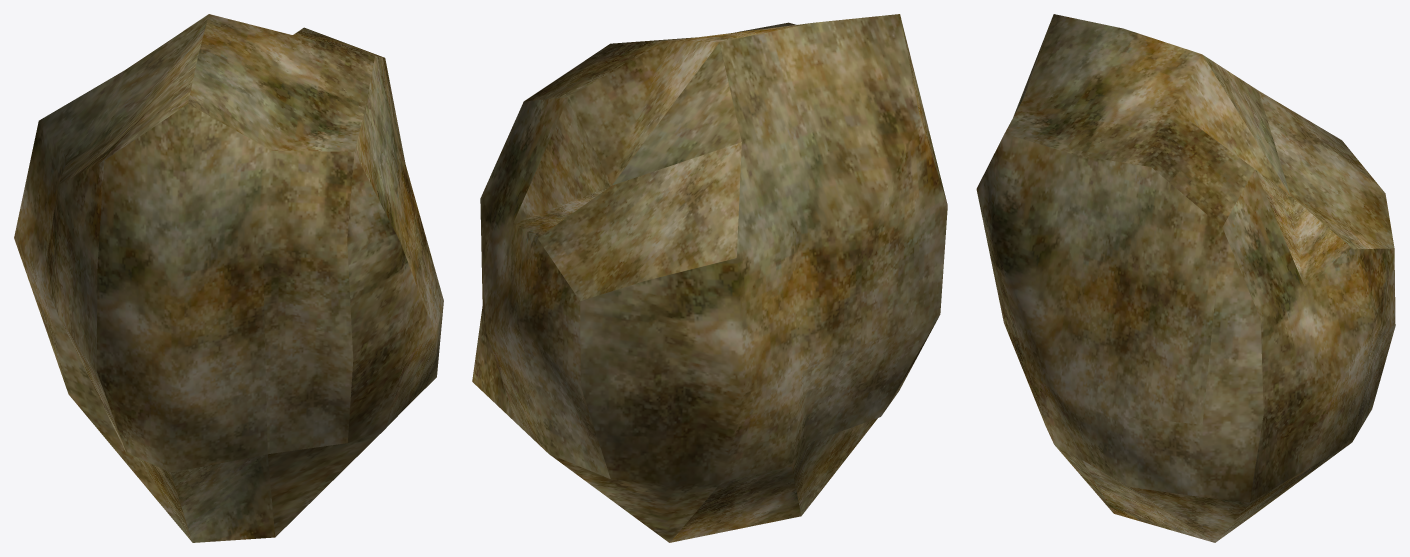
File: LVL_ROAST_MUTTON_ROCK07.fbx
3 renders of one model, left to right at view 1: azimuth 30°, elevation 25°; view 2: azimuth 150°, elevation 25°; view 3: azimuth 270°, elevation 25°, orthographic. The views are drawn at different scales.
Visible parts, largest first — view 1: LVL_ROAST_MUTTON_ROCK07; view 2: LVL_ROAST_MUTTON_ROCK07; view 3: LVL_ROAST_MUTTON_ROCK07.
Boxes of the visible parts, left/top/right/bottom form: LVL_ROAST_MUTTON_ROCK07: left=14, top=14, right=443, bottom=542; LVL_ROAST_MUTTON_ROCK07: left=472, top=14, right=947, bottom=542; LVL_ROAST_MUTTON_ROCK07: left=976, top=14, right=1395, bottom=542.
Bounding box in the file's own units: 8488 × 10127 × 8490.
1 material, 1 textured.
